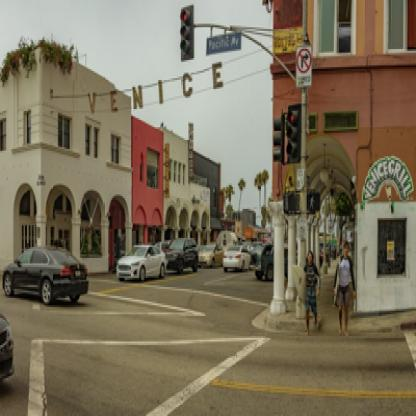Red Light: (180, 8, 195, 60)
